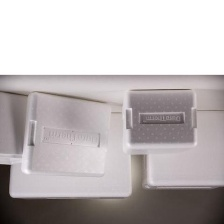foam_box: (5, 106, 135, 204), (12, 88, 115, 179), (137, 106, 224, 195), (117, 87, 204, 157), (0, 87, 30, 168)
